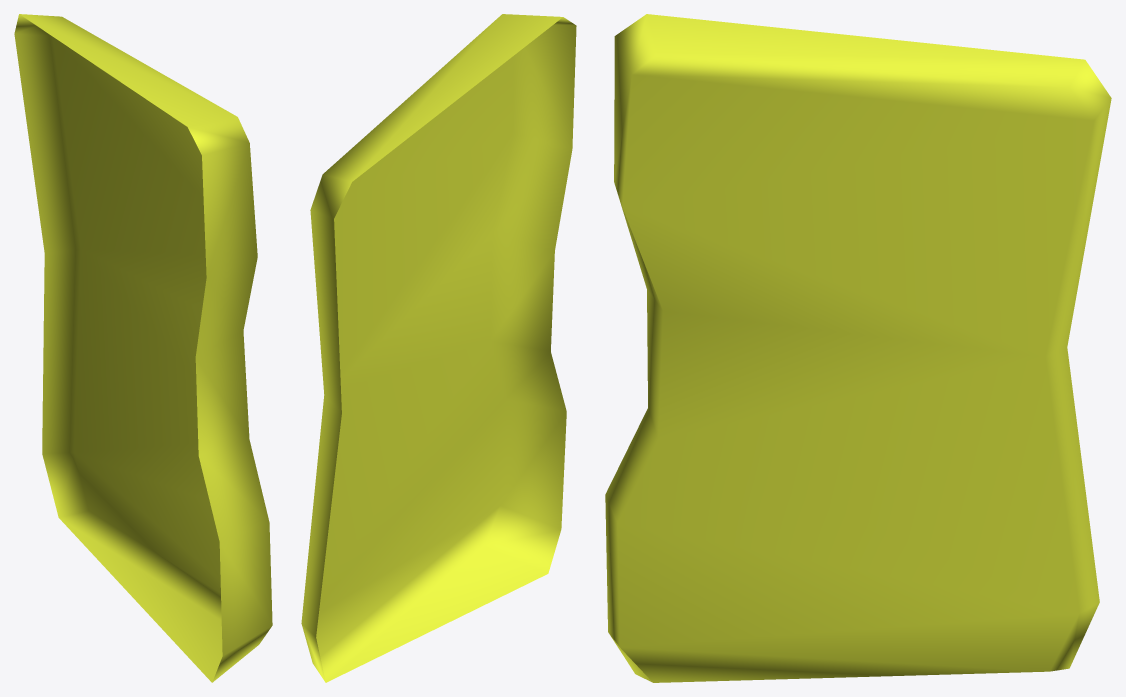
The model's file is b_polySurface593_b_BMW_i8Elite_2017CalliperGloss_Material1_0.glb.
The picture shows the model from 3 angles, left to right: view 1: azimuth 30°, elevation 25°; view 2: azimuth 150°, elevation 25°; view 3: azimuth 270°, elevation 25°; orthographic projection. The views are drawn at different scales.
Visible parts, largest first — view 1: b:polySurface593_b:BMW_i8Elite_2017CalliperGloss_Material1_0; view 2: b:polySurface593_b:BMW_i8Elite_2017CalliperGloss_Material1_0; view 3: b:polySurface593_b:BMW_i8Elite_2017CalliperGloss_Material1_0.
Boxes of the visible parts, bbox=[...] form: b:polySurface593_b:BMW_i8Elite_2017CalliperGloss_Material1_0: bbox=[14, 14, 272, 682]; b:polySurface593_b:BMW_i8Elite_2017CalliperGloss_Material1_0: bbox=[301, 14, 576, 682]; b:polySurface593_b:BMW_i8Elite_2017CalliperGloss_Material1_0: bbox=[605, 14, 1111, 682].
Bounding box in the file's own units: 0.017 × 0.1211 × 0.0856.
